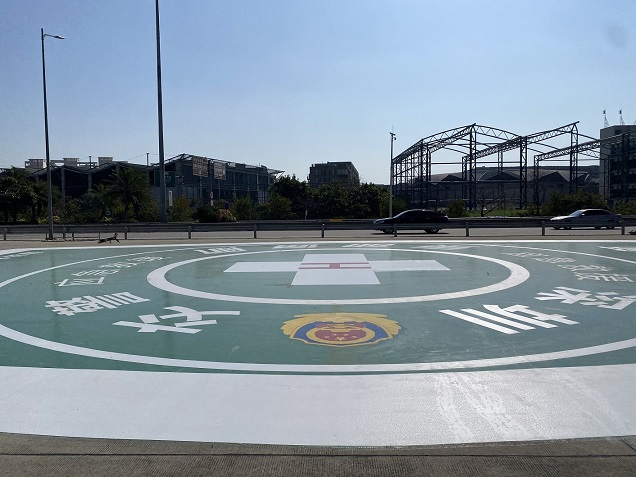H: (299, 263, 373, 270)
